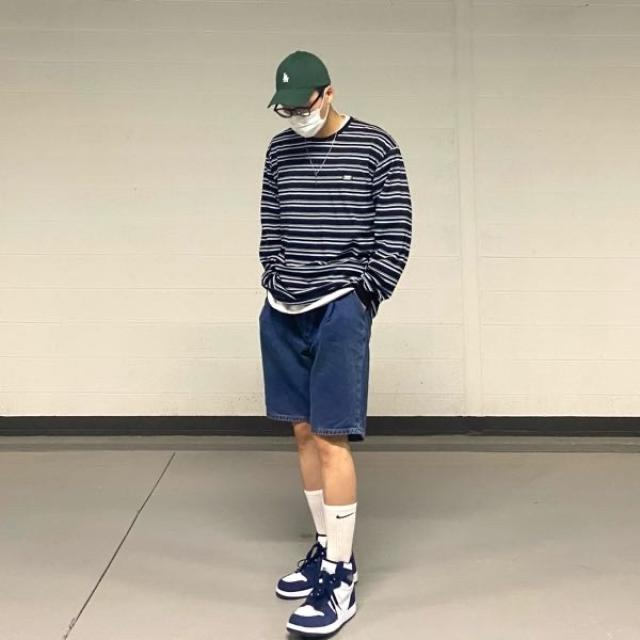longsleeve: (259, 113, 411, 315)
shortpants: (258, 283, 369, 439)
